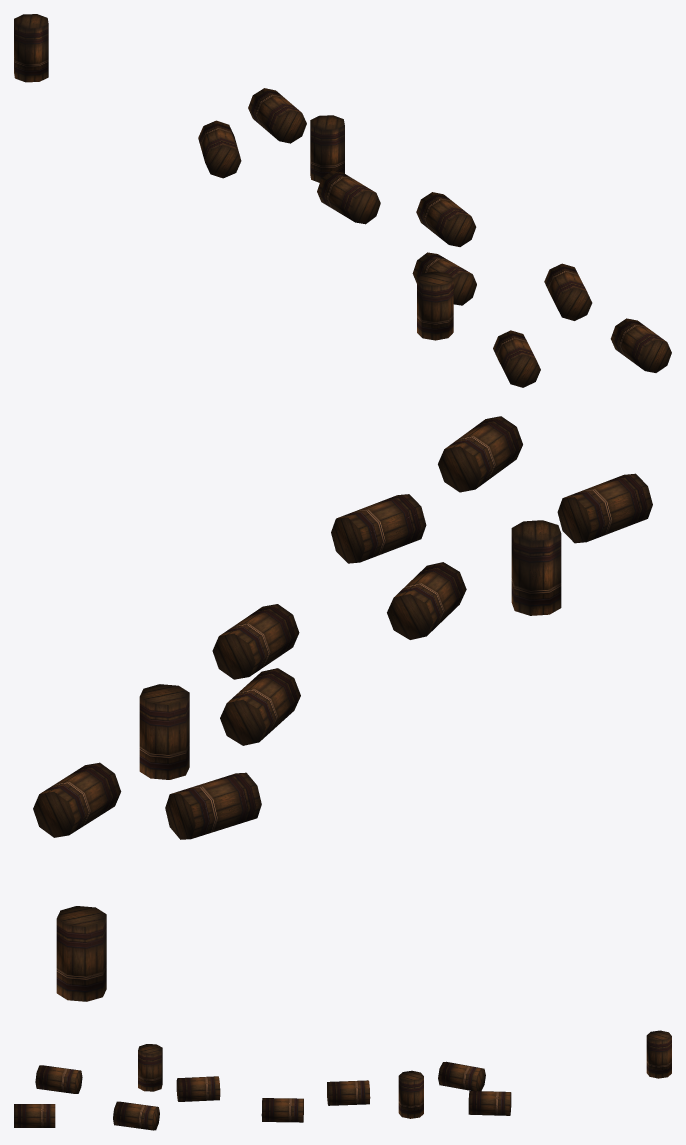
File: barrel.fbx
The picture shows the model from 3 angles, top to bottom: view 1: azimuth 30°, elevation 25°; view 2: azimuth 150°, elevation 25°; view 3: azimuth 270°, elevation 25°; orthographic projection. The views are drawn at different scales.
Visible parts, largest first — view 1: polySurface1719; view 2: polySurface1719; view 3: polySurface1719.
Part boxes in pixels (x1,y1,x2,y2): polySurface1719: (14,14,671,387); polySurface1719: (33,416,652,1001); polySurface1719: (14,1030,671,1130).
Size of the model in its own units: 30.56 by 7.81 by 124.
